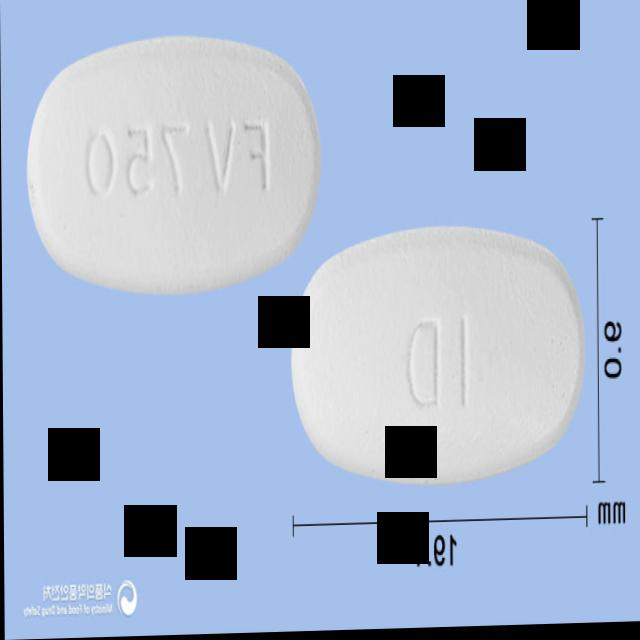Famvir -750mg: (288, 221, 583, 493), (25, 30, 322, 300)
